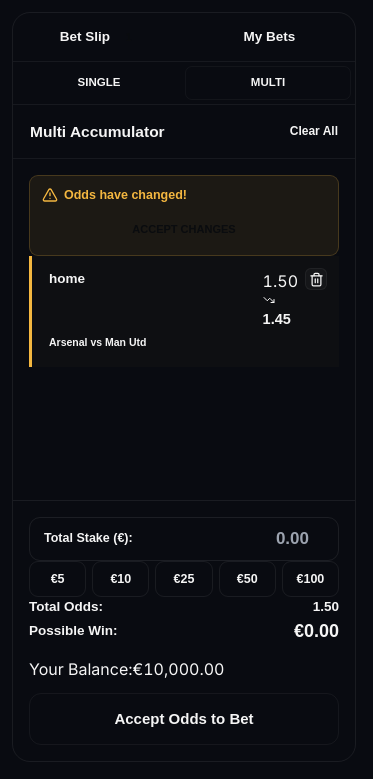
Test: RightSidebar (component tests) › switches to Single mode and shows per-bet stakes + returns
Click the button "Single" at point(99, 83), box [17,66,181,100]
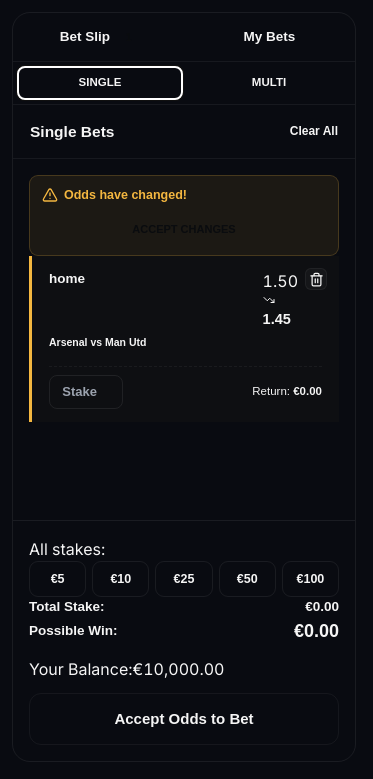
Expected: the number of number fields with placeholder "Stake" is 1, [49,375,123,409]
Expected: the heading "Single Bets" is shown, [30,120,114,143]
